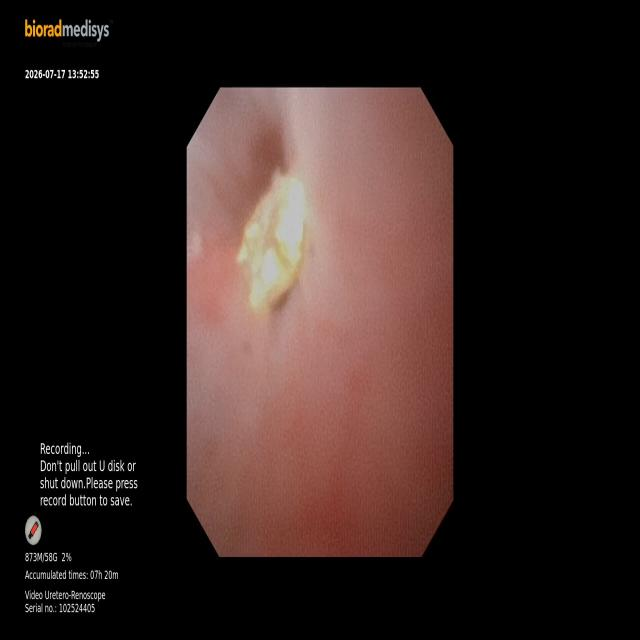stone-new: (237, 174, 306, 311)
